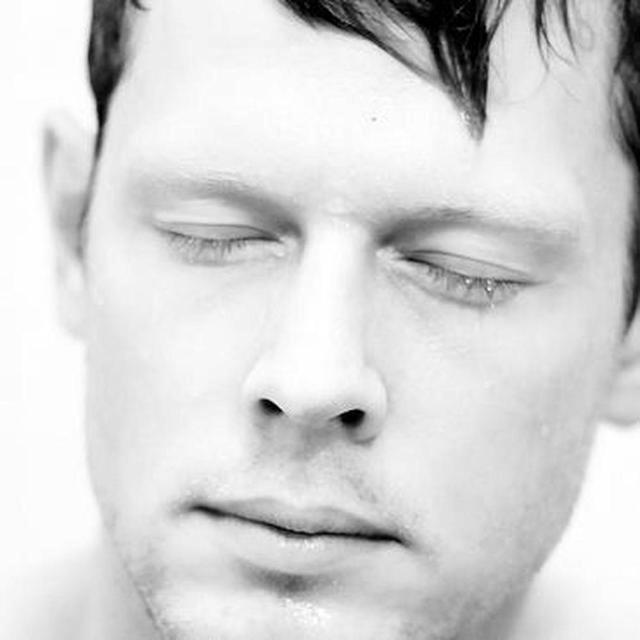real: (82, 45, 625, 640), (124, 159, 586, 324)
